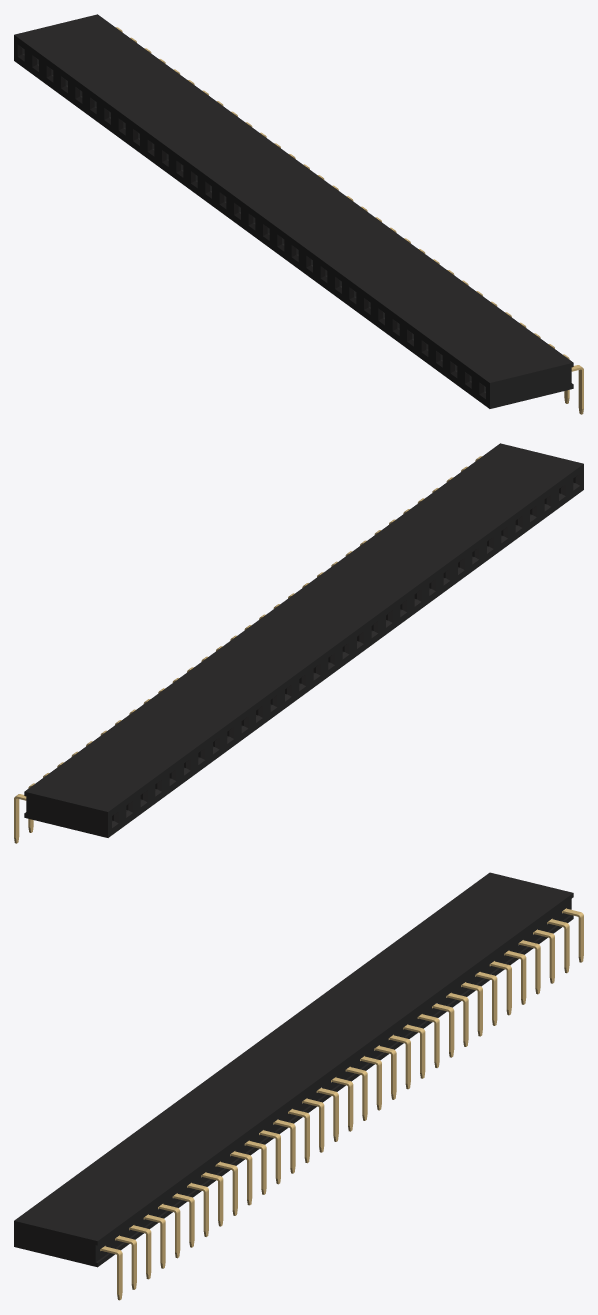
File: kc-pinsocket_1x33_p2.54mm_horizontal.glb
3 renders of one model, top to bottom at view 1: azimuth 30°, elevation 25°; view 2: azimuth 150°, elevation 25°; view 3: azimuth 330°, elevation 25°, orthographic.
Visible parts, largest first — view 1: 0_0_0_0, 0.75_0.5_0.25_0.9; view 2: 0_0_0_0, 0.75_0.5_0.25_0.9; view 3: 0_0_0_0, 0.75_0.5_0.25_0.9.
Part boxes in pixels (box(x1,y1,x2,y2)): 0_0_0_0: box(14, 14, 573, 408); 0.75_0.5_0.25_0.9: box(116, 27, 583, 414); 0_0_0_0: box(24, 443, 583, 837); 0.75_0.5_0.25_0.9: box(14, 456, 481, 843); 0_0_0_0: box(14, 872, 573, 1267); 0.75_0.5_0.25_0.9: box(100, 908, 583, 1300).
Bounding box in the file's own units: 1.01 × 0.5836 × 8.38.
